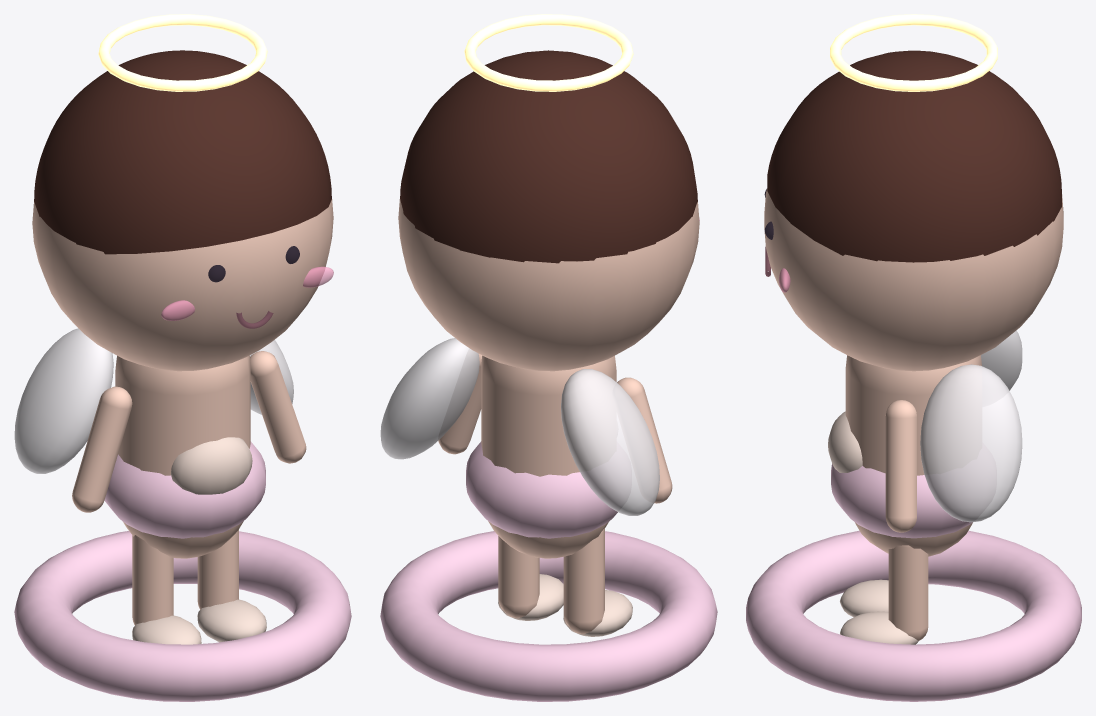
File: angel.gltf
3 views of the same model, side by side, from view 1: azimuth 30°, elevation 25°; view 2: azimuth 150°, elevation 25°; view 3: azimuth 270°, elevation 25° (orthographic).
Parts seen in each view (by area): view 1: Hair, FloatRing, Head, Torso, WingL, Bloomers, Halo, ArmL, Belly, ArmR, LegL, LegR (+4 smaller); view 2: Hair, FloatRing, Head, Torso, WingL, Bloomers, WingR, Halo, LegL, LegR, ArmR, ArmL (+2 smaller); view 3: Hair, FloatRing, Head, WingR, Torso, Bloomers, Halo, ArmR, LegR, FootR, Belly, FootL (+1 smaller).
Part boxes in pixels (x1=…): Hair: x1=34, y1=50, x2=331, y2=254; FloatRing: x1=14, y1=531, x2=351, y2=701; Head: x1=32, y1=199, x2=333, y2=371; Torso: x1=115, y1=355, x2=250, y2=558; WingL: x1=14, y1=328, x2=113, y2=473; Bloomers: x1=104, y1=441, x2=265, y2=538; Halo: x1=98, y1=14, x2=267, y2=91; ArmL: x1=72, y1=386, x2=132, y2=512; Belly: x1=171, y1=437, x2=252, y2=494; ArmR: x1=250, y1=351, x2=306, y2=463; LegL: x1=132, y1=535, x2=173, y2=625; LegR: x1=197, y1=529, x2=238, y2=609; Hair: x1=400, y1=50, x2=697, y2=263; FloatRing: x1=380, y1=531, x2=717, y2=701; Head: x1=398, y1=199, x2=699, y2=371; Torso: x1=481, y1=355, x2=616, y2=558; WingL: x1=561, y1=369, x2=659, y2=515; Bloomers: x1=466, y1=441, x2=617, y2=538; WingR: x1=380, y1=338, x2=479, y2=459; Halo: x1=464, y1=14, x2=633, y2=91; LegL: x1=563, y1=528, x2=604, y2=634; LegR: x1=498, y1=536, x2=539, y2=618; ArmR: x1=438, y1=353, x2=482, y2=454; ArmL: x1=617, y1=377, x2=672, y2=503; Hair: x1=767, y1=50, x2=1061, y2=262; FloatRing: x1=746, y1=530, x2=1081, y2=701; Head: x1=764, y1=188, x2=1063, y2=371; WingR: x1=920, y1=364, x2=1022, y2=522; Torso: x1=845, y1=355, x2=981, y2=556; Bloomers: x1=831, y1=464, x2=972, y2=538; Halo: x1=830, y1=14, x2=997, y2=91; ArmR: x1=885, y1=400, x2=916, y2=532; LegR: x1=888, y1=545, x2=928, y2=640; FootR: x1=840, y1=611, x2=918, y2=644; Belly: x1=828, y1=411, x2=862, y2=472; FootL: x1=840, y1=579, x2=888, y2=617.
Size of the model in its own units: 9.4 by 18.2 by 9.36.
